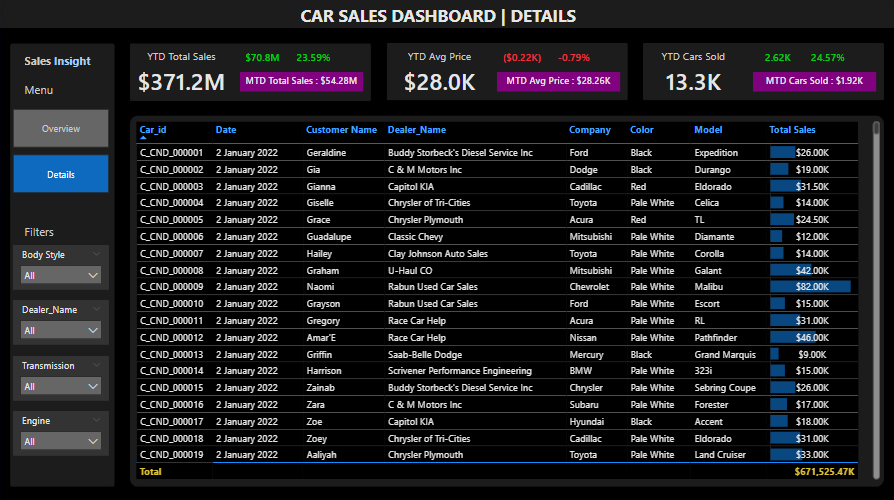

This screenshot's page, from the dashboard's own definition file:
{"tool":"powerbi","page":{"name":"Details","canvas":[1280,720],"ordinal":1},"visuals":[{"type":"card","title":"YTD Total Sales","fields":{"Values":["car_data.YTD Total  Sales"]},"box":[190,70,141.1,71.1],"z":0},{"type":"card","fields":{"Values":["car_data.Sales Difference"]},"box":[344.4,70,64.4,26.7],"z":1000},{"type":"card","fields":{"Values":["car_data.YoY Sales Growth"]},"box":[416.7,70,64.4,26.7],"z":2000},{"type":"card","fields":{"Values":["car_data.MTD KPI"]},"box":[344.4,103.3,175.6,27.8],"z":3000},{"type":"card","fields":{"Values":["car_data.Avg Price Difference"]},"box":[711.1,70,71.1,26.7],"z":4000},{"type":"card","fields":{"Values":["car_data.YoY Price Growth"]},"box":[785.6,70,71.1,26.7],"z":5000},{"type":"card","fields":{"Values":["car_data.MTD Avg Price KPI"]},"box":[711.1,103.3,175.6,27.8],"z":6000},{"type":"card","title":"YTD Avg Price","fields":{"Values":["car_data.YTD Avg Price"]},"box":[558.9,70,141.1,71.1],"z":7000},{"type":"card","title":"YTD Cars Sold","fields":{"Values":["car_data.YTD Car Sold"]},"box":[921.1,70,141.1,71.1],"z":8000},{"type":"card","fields":{"Values":["car_data.Cars Sold Diff"]},"box":[1077.8,70,71.1,26.7],"z":9000},{"type":"card","fields":{"Values":["car_data.MTD Cars Sold KPI"]},"box":[1077.8,103.3,175.6,27.8],"z":10000},{"type":"card","fields":{"Values":["car_data.YoY Sold Growth"]},"box":[1148.9,70,71.1,26.7],"z":11000},{"type":"textbox","box":[425.7,0,448.6,47.1],"z":12000},{"type":"slicer","fields":{"Values":["car_data.Body Style"]},"box":[20,350,137.1,64.3],"z":13000},{"type":"slicer","fields":{"Values":["car_data.Dealer_Name"]},"box":[20,429,137.1,64.3],"z":14000},{"type":"slicer","fields":{"Values":["car_data.Transmission"]},"box":[20,508.1,137.1,64.3],"z":15000},{"type":"slicer","fields":{"Values":["car_data.Engine"]},"box":[20,587.1,137.1,64.3],"z":16000},{"type":"textbox","box":[31.4,315.7,125.7,34.3],"z":17000},{"type":"tableEx","fields":{"Values":["car_data.Car_id","car_data.Date","car_data.Customer Name","car_data.Dealer_Name","car_data.Company","car_data.Color","car_data.Model","car_data.Price ($)"]},"box":[190,168.6,1072.9,521.4],"z":18000},{"type":"textbox","box":[31.4,71.4,125.7,34.3],"z":19000},{"type":"textbox","box":[31.4,112.9,125.7,34.3],"z":20000},{"type":"pageNavigator","box":[20,155.7,137.1,121.4],"z":21000}]}

Visuals, with their boxes on the page's 1280x720 design canvas (x1, y1, x2, y2). These are canvas units, not pixel positions in the 894x500 screenshot, which may show the page scaled, cropped or inside an application window:
"YTD Total Sales" card: BBox(190, 70, 331, 141)
card - car_data.Sales Difference: BBox(344, 70, 409, 97)
card - car_data.YoY Sales Growth: BBox(417, 70, 481, 97)
card - car_data.MTD KPI: BBox(344, 103, 520, 131)
card - car_data.Avg Price Difference: BBox(711, 70, 782, 97)
card - car_data.YoY Price Growth: BBox(786, 70, 857, 97)
card - car_data.MTD Avg Price KPI: BBox(711, 103, 887, 131)
"YTD Avg Price" card: BBox(559, 70, 700, 141)
"YTD Cars Sold" card: BBox(921, 70, 1062, 141)
card - car_data.Cars Sold Diff: BBox(1078, 70, 1149, 97)
card - car_data.MTD Cars Sold KPI: BBox(1078, 103, 1253, 131)
card - car_data.YoY Sold Growth: BBox(1149, 70, 1220, 97)
textbox: BBox(426, 0, 874, 47)
slicer - car_data.Body Style: BBox(20, 350, 157, 414)
slicer - car_data.Dealer_Name: BBox(20, 429, 157, 493)
slicer - car_data.Transmission: BBox(20, 508, 157, 572)
slicer - car_data.Engine: BBox(20, 587, 157, 651)
textbox: BBox(31, 316, 157, 350)
tableEx - car_data.Car_id x car_data.Date: BBox(190, 169, 1263, 690)
textbox: BBox(31, 71, 157, 106)
textbox: BBox(31, 113, 157, 147)
pageNavigator: BBox(20, 156, 157, 277)
